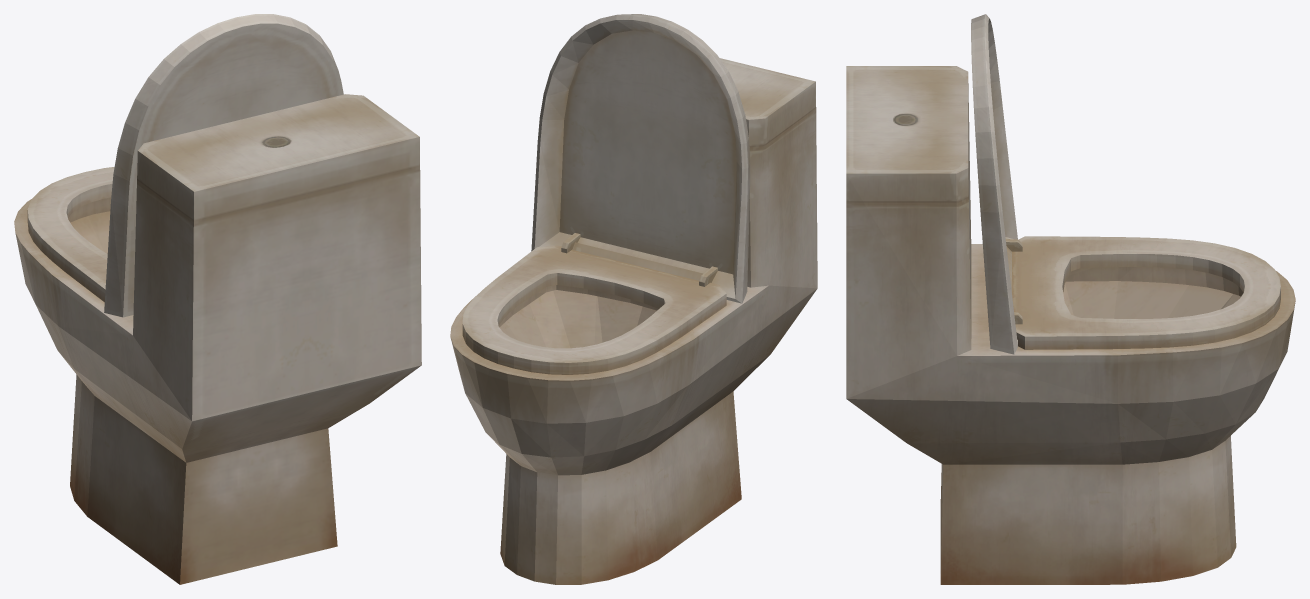
File: P_Toilet_002_S1_M01.obj
3 renders of one model, left to right at view 1: azimuth 30°, elevation 25°; view 2: azimuth 150°, elevation 25°; view 3: azimuth 270°, elevation 25°, orthographic. The views are drawn at different scales.
Size of the model in its own units: 0.5719 by 1.24 by 0.9685.
Materials: 2 (2 with a texture image).
